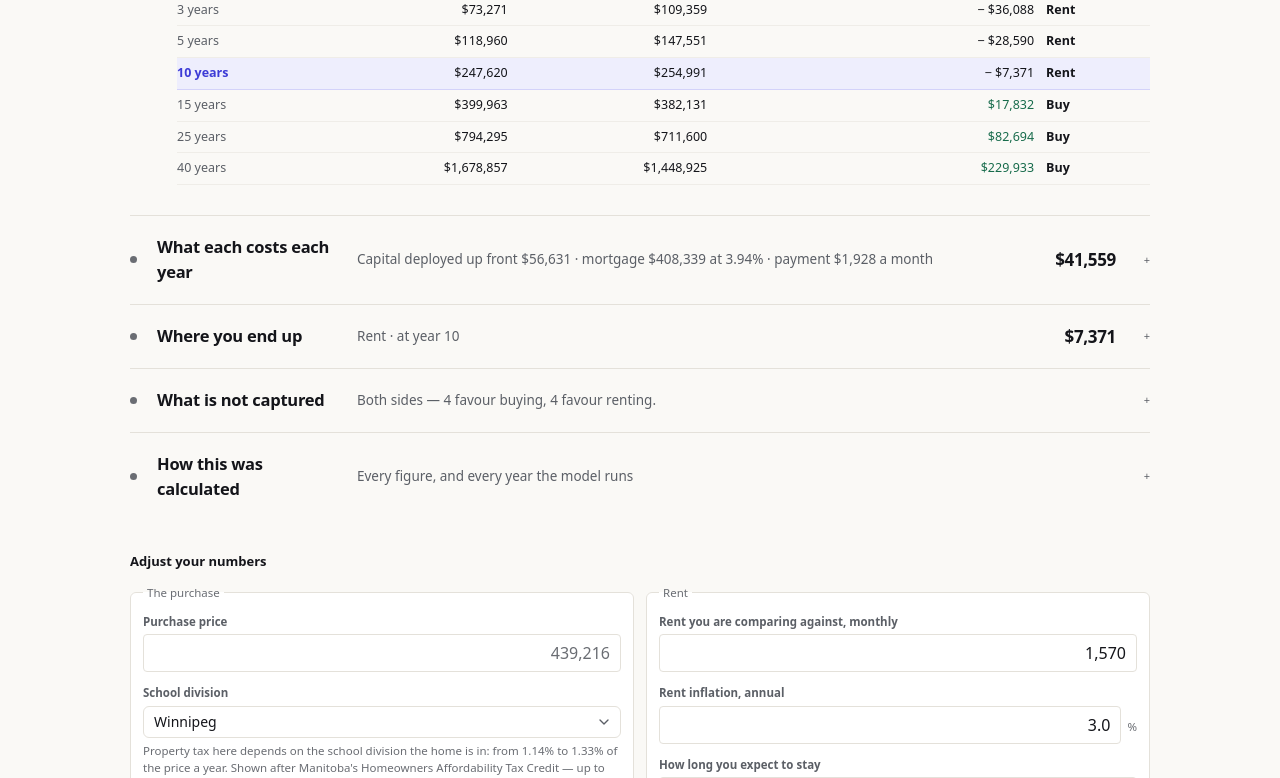
Test: Rent vs buy — what the model leaves out › names the omissions on both sides, rather than only the ones that flatter buying
This screenshot has width=1280, height=778.
(page scrolled)
Click the button "What is not captured": (640, 401) [130,369,1150,432]
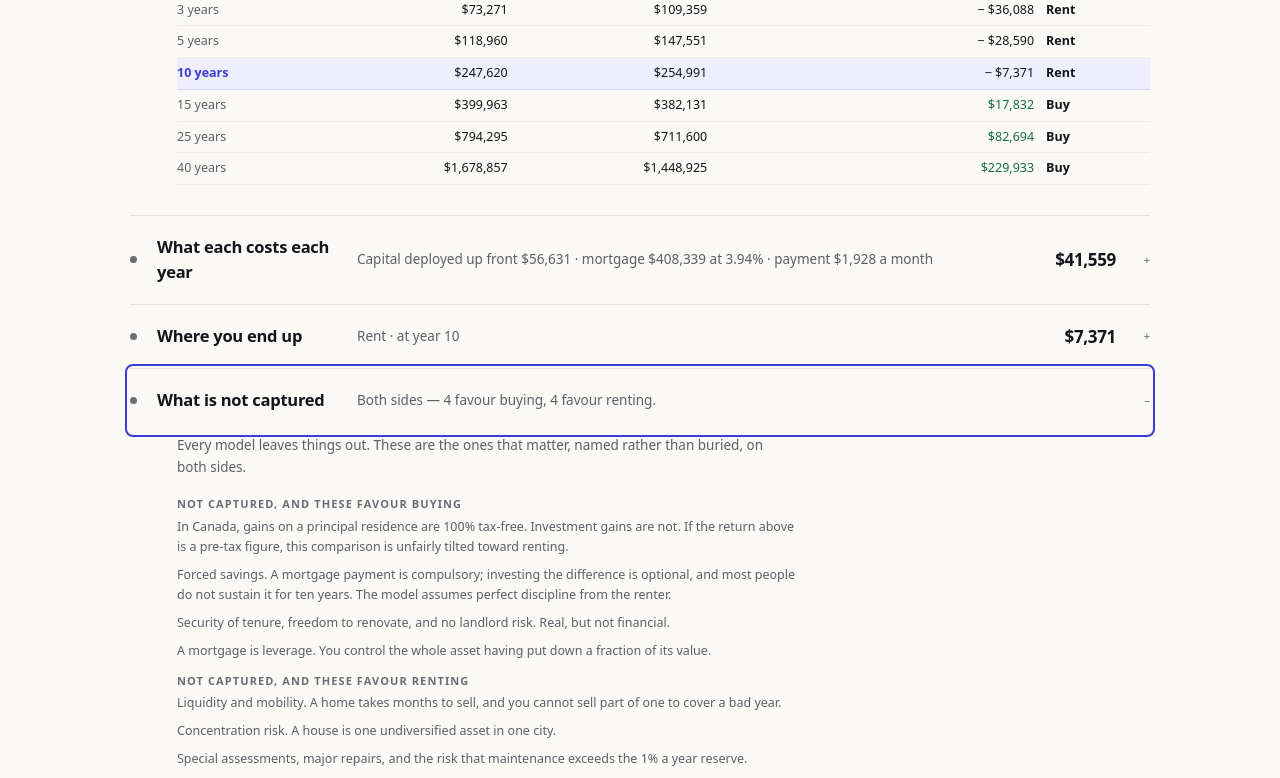
Expected: the text "Not captured, and these favour buying" is shown, [177,496,462,512]
Expected: the text "Not captured, and these favour renting" is shown, [177,673,469,688]
Expected: the list item "Concentration risk" is shown, [177,722,556,740]
